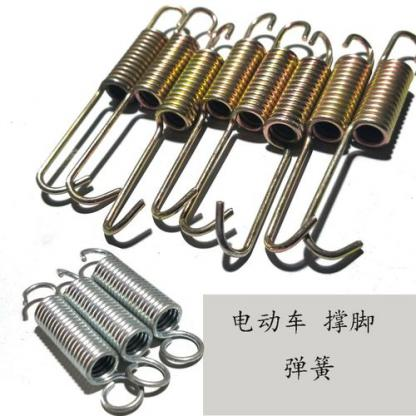FOD: (32, 1, 187, 197), (299, 27, 415, 264), (260, 31, 376, 255), (22, 278, 146, 415), (76, 245, 205, 365), (55, 266, 173, 388)
